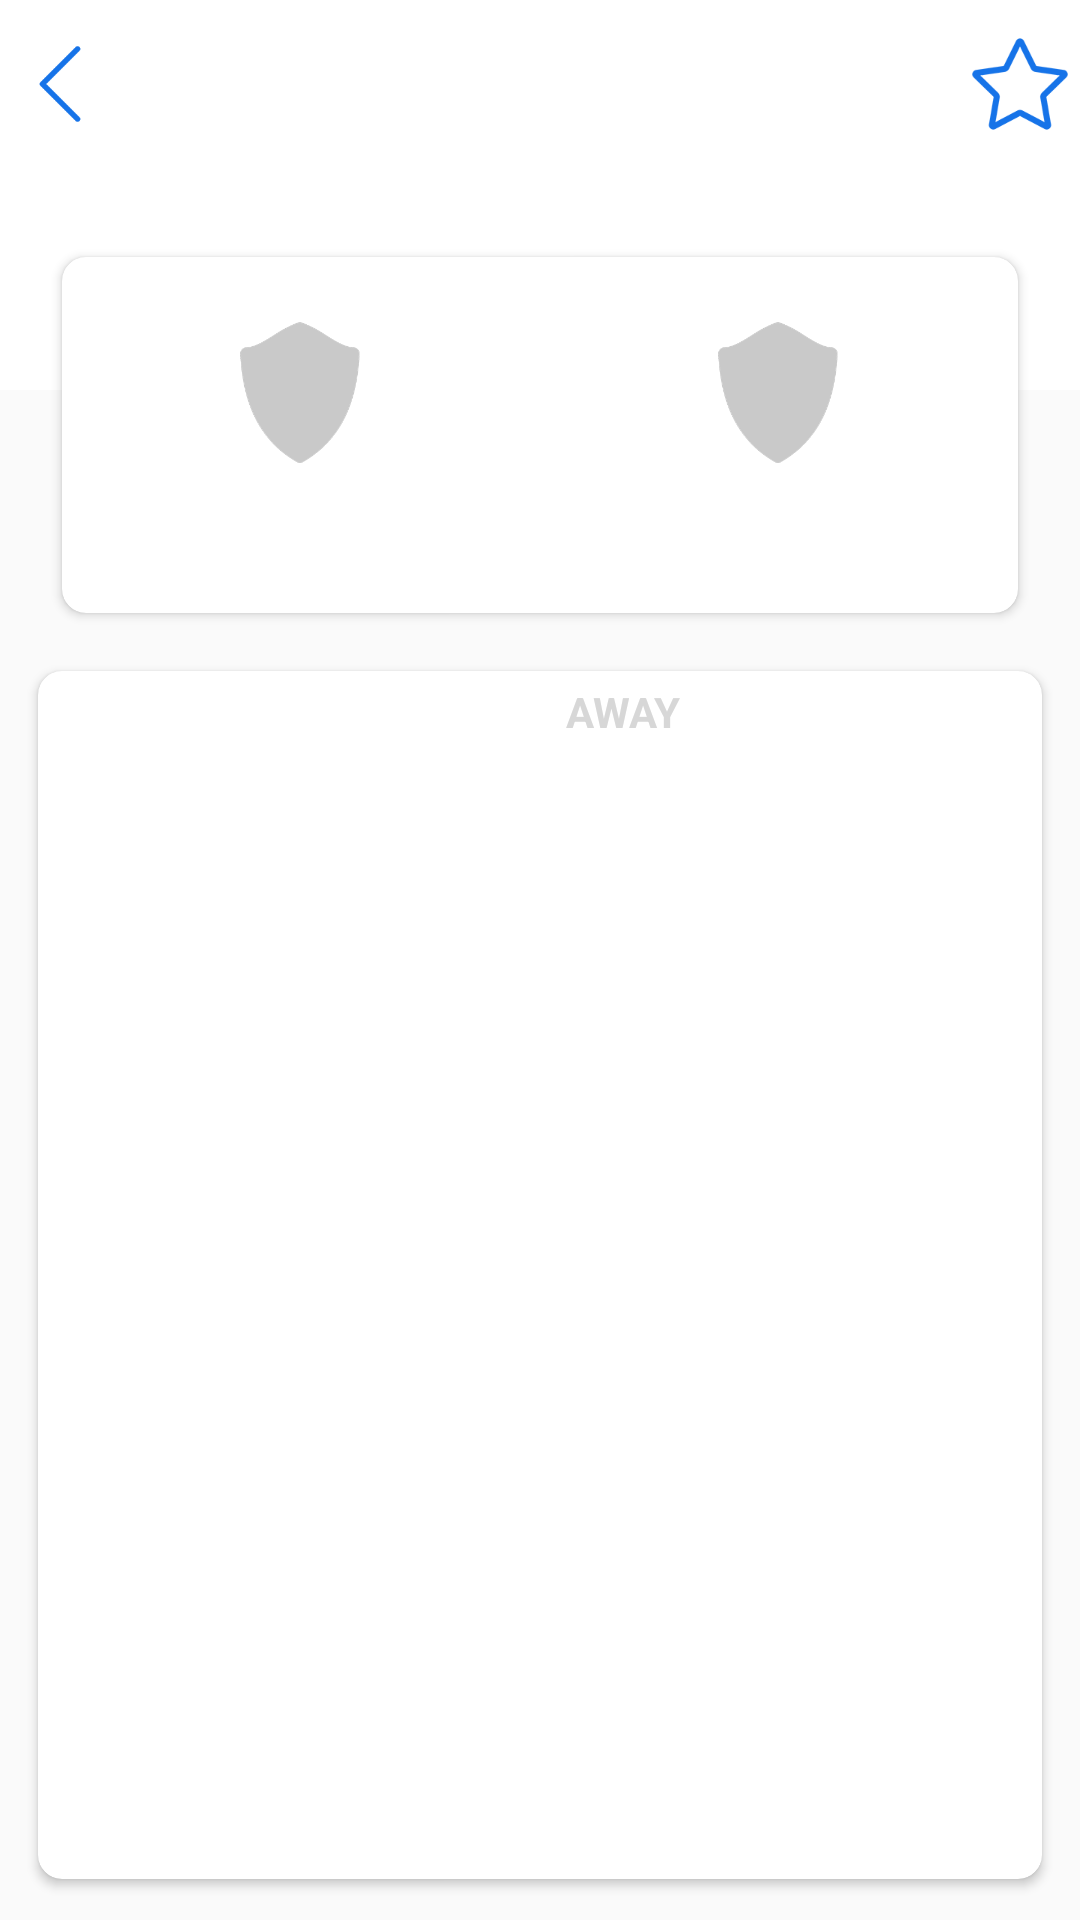

Named icons in this screenshot (1080 × 1920) and their bounding boxes, box=[x1, y1, x2, y2]:
back: box=[39, 46, 81, 122]
favorite: box=[972, 38, 1068, 130]
shield: box=[240, 322, 360, 463], box=[718, 322, 838, 463]
